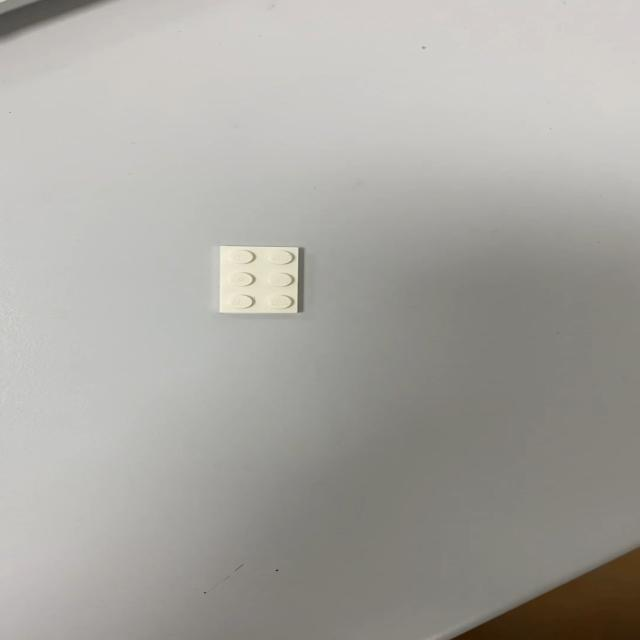C3x2x0: (217, 243, 301, 313)
